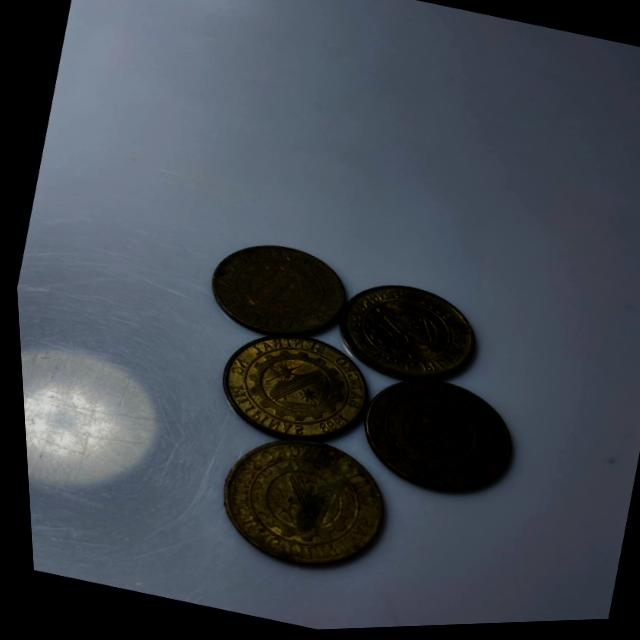25Cent_Old_Back: (207, 430, 389, 580), (199, 320, 378, 455), (361, 370, 509, 499), (196, 232, 351, 353), (330, 273, 478, 392)
